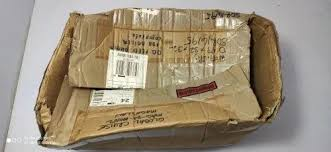damaged package: (63, 115, 255, 151), (237, 9, 280, 122), (40, 32, 77, 134)
